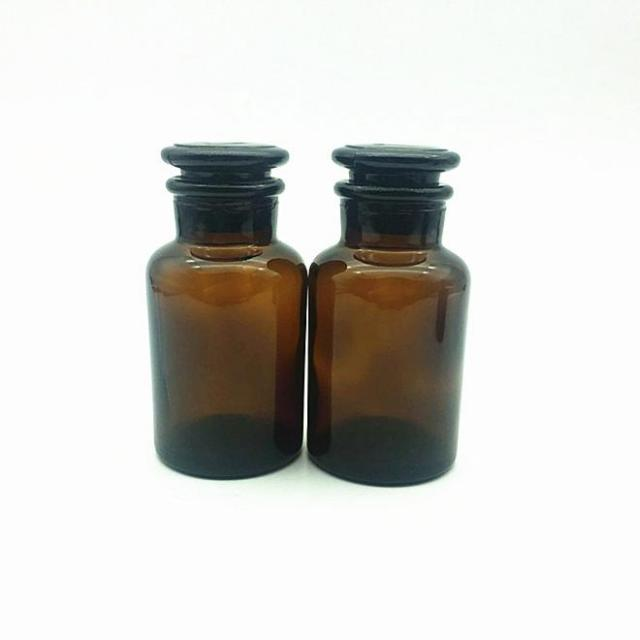non-organic waste: (142, 136, 308, 480)
